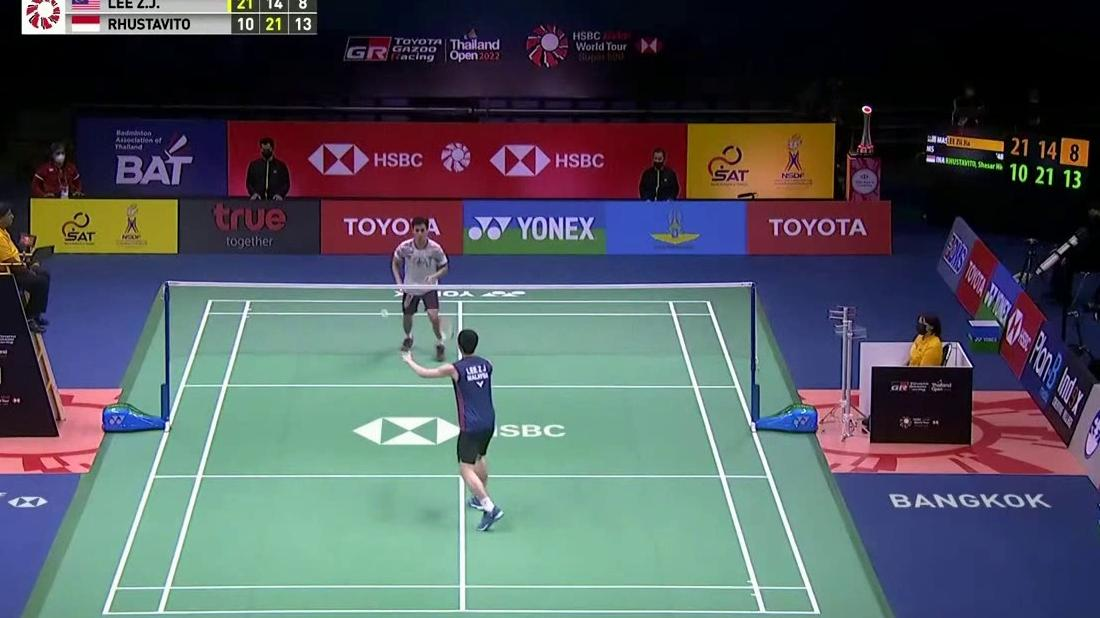racket: (436, 315, 459, 360), (398, 286, 412, 310)
shuttle: (381, 308, 388, 318)
